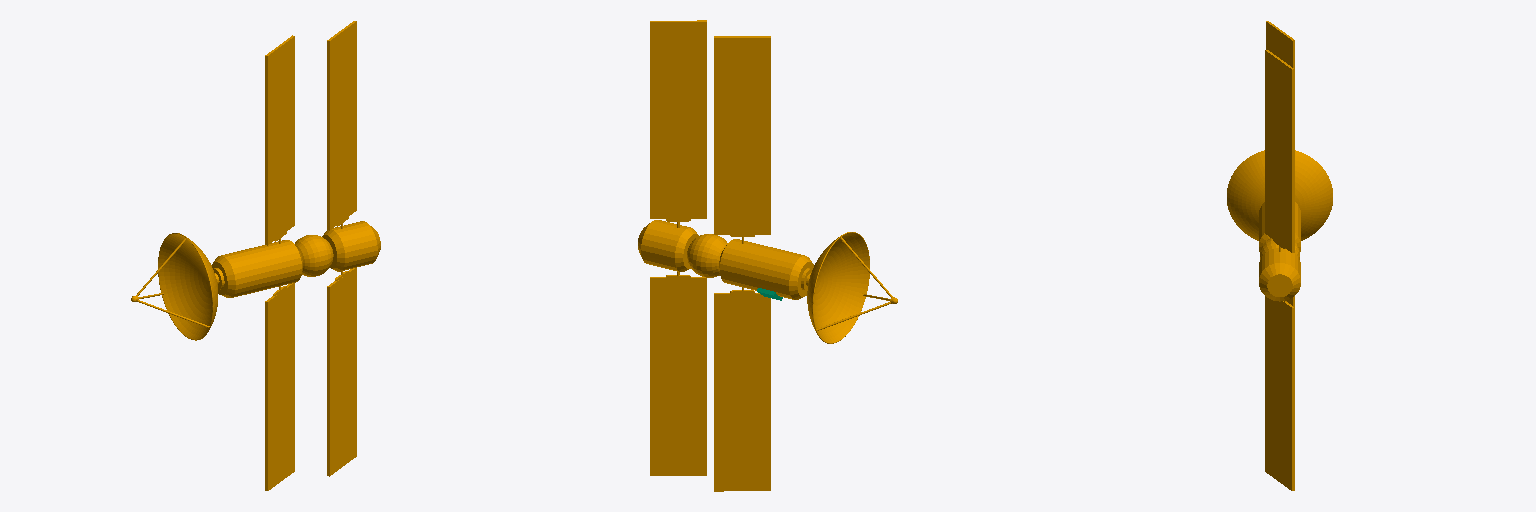
URDF robot description (solidworks_satellite):
<?xml version='1.0' encoding='utf-8'?>
<robot name="solidworks_satellite">
  <link name="base_link">
    <visual>
      <geometry>
        <mesh filename="satellite.stl" />
      </geometry>
    </visual>
    <collision>
      <geometry>
        <mesh filename="satellite.stl" />
      </geometry>
    </collision>
  </link>
  <link name="solidworks_satellite_mount" />
  <joint name="satellite_mount_fixed" type="fixed">
    <parent link="base_link" />
    <child link="solidworks_satellite_mount" />
    <origin xyz="-2.437326161586077 0.20975094889472667 -0.29954458009684976" rpy="3.141592653589793 -0.654498604372334 1.5707963267948966" />
  </joint>
  <link name="mount_support">
    <visual>
      <geometry>
        <mesh filename="mount_support.stl" />
      </geometry>
    </visual>
    <collision>
      <geometry>
        <mesh filename="mount_support.stl" />
      </geometry>
    </collision>
  </link>
  <joint name="support_fixed" type="fixed">
    <parent link="solidworks_satellite_mount" />
    <child link="mount_support" />
    <origin xyz="0 0 0" rpy="0 0 0" />
  </joint>
</robot>

--- Facts derived from the render (not from the file) ---
3 views of the same robot in one strip: view 1: azimuth 30°, elevation 25°; view 2: azimuth 150°, elevation 25°; view 3: azimuth 270°, elevation 25° (orthographic).
Robot: solidworks_satellite — 3 links, 2 joints (2 fixed); root link base_link; default pose: all joints at 0.
Links seen in each view (by area): view 1: base_link; view 2: base_link; view 3: base_link.
Link boxes in pixels (x1,y1,x2,y2): base_link: (131, 21, 380, 490); base_link: (638, 20, 897, 491); base_link: (1227, 21, 1332, 490).
Size in the robot's own frame: 4.67 by 1.84 by 8 metres.
Meshes: 2 distinct files referenced, 2 mesh visuals loaded (2 binary STL).
